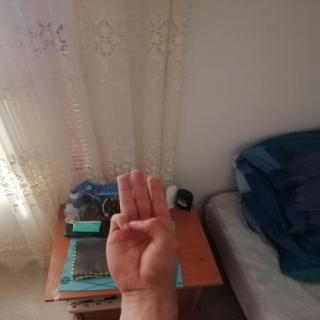THA: (95, 161, 188, 302)
